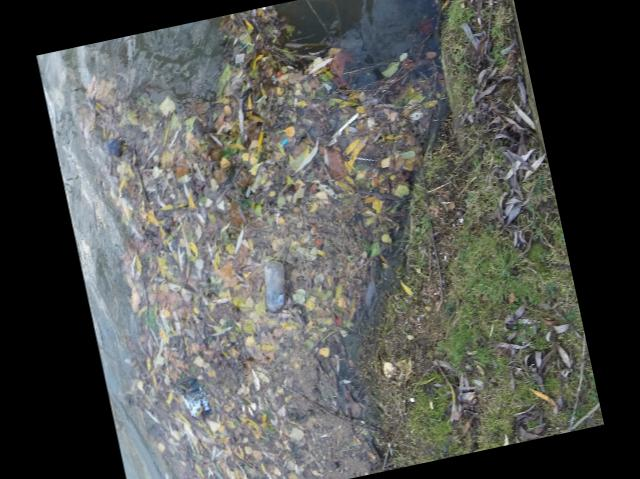plastic: (264, 259, 284, 312)
